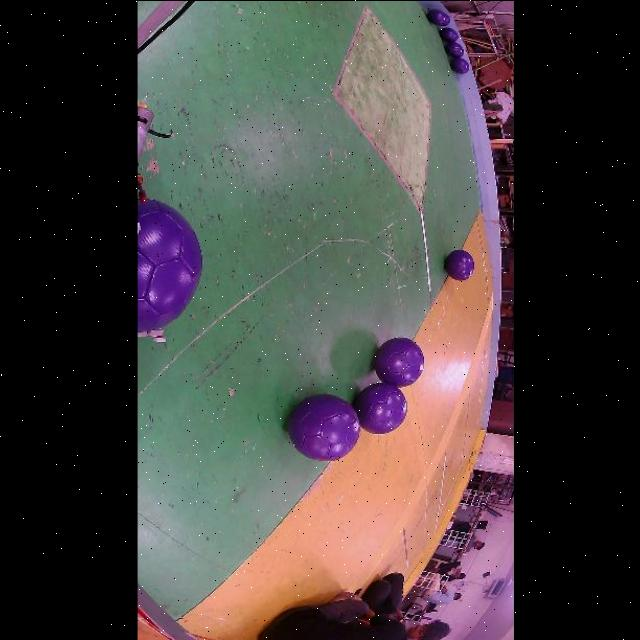P: (139, 198, 204, 332), (290, 392, 361, 460), (354, 382, 409, 433), (375, 336, 425, 386), (446, 249, 476, 280), (452, 56, 471, 73), (441, 26, 460, 42), (429, 9, 447, 25), (447, 41, 465, 56), (444, 14, 452, 25)
